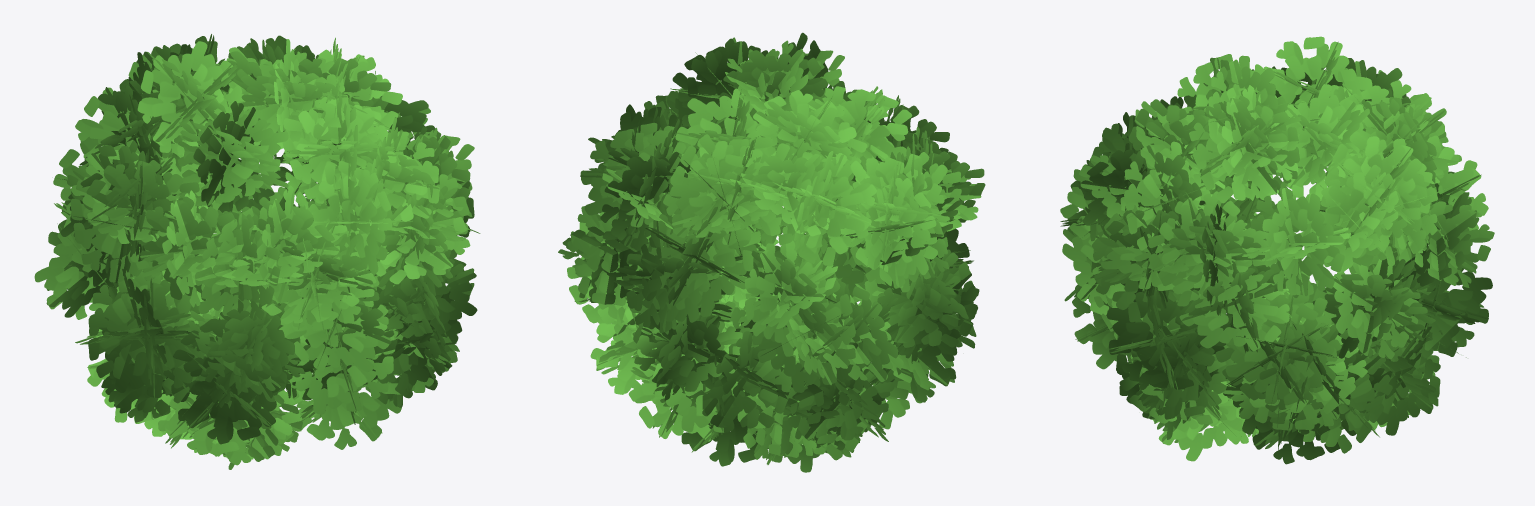
Rendered from sn-stylised-bush.glb.
3 views of the same model, side by side, from view 1: azimuth 30°, elevation 25°; view 2: azimuth 150°, elevation 25°; view 3: azimuth 270°, elevation 25° (orthographic). The views are drawn at different scales.
Visible parts, largest first — view 1: StylisedBush; view 2: StylisedBush; view 3: StylisedBush.
Boxes of the visible parts, x1,y1,x2,y2 form: StylisedBush: [34, 34, 480, 469]; StylisedBush: [558, 32, 985, 472]; StylisedBush: [1060, 36, 1494, 464].
Size of the model in its own units: 2.86 by 2.91 by 2.93.
Materials: 1 (1 with a texture image).
